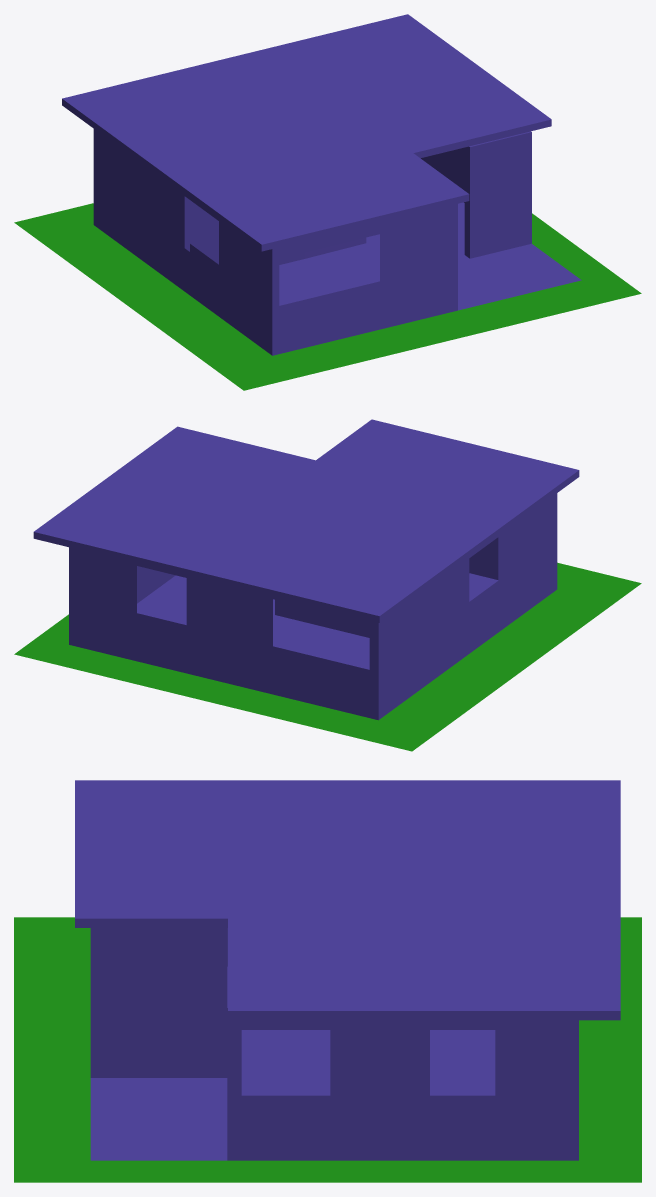
The model's file is arhouse.glb.
The picture shows the model from 3 angles, top to bottom: view 1: azimuth 30°, elevation 25°; view 2: azimuth 150°, elevation 25°; view 3: azimuth 270°, elevation 25°; orthographic projection. The views are drawn at different scales.
Visible parts, largest first — view 1: Cube, Plane; view 2: Cube, Plane; view 3: Cube, Plane.
Boxes of the visible parts, bbox=[...] form: Cube: bbox=[62, 14, 581, 355]; Plane: bbox=[14, 203, 641, 390]; Cube: bbox=[33, 419, 579, 720]; Plane: bbox=[14, 562, 641, 751]; Cube: bbox=[75, 780, 620, 1160]; Plane: bbox=[14, 917, 641, 1182].
Size of the model in its own units: 14.28 by 4.11 by 14.28.
